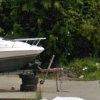Boat: (1, 30, 46, 77)
